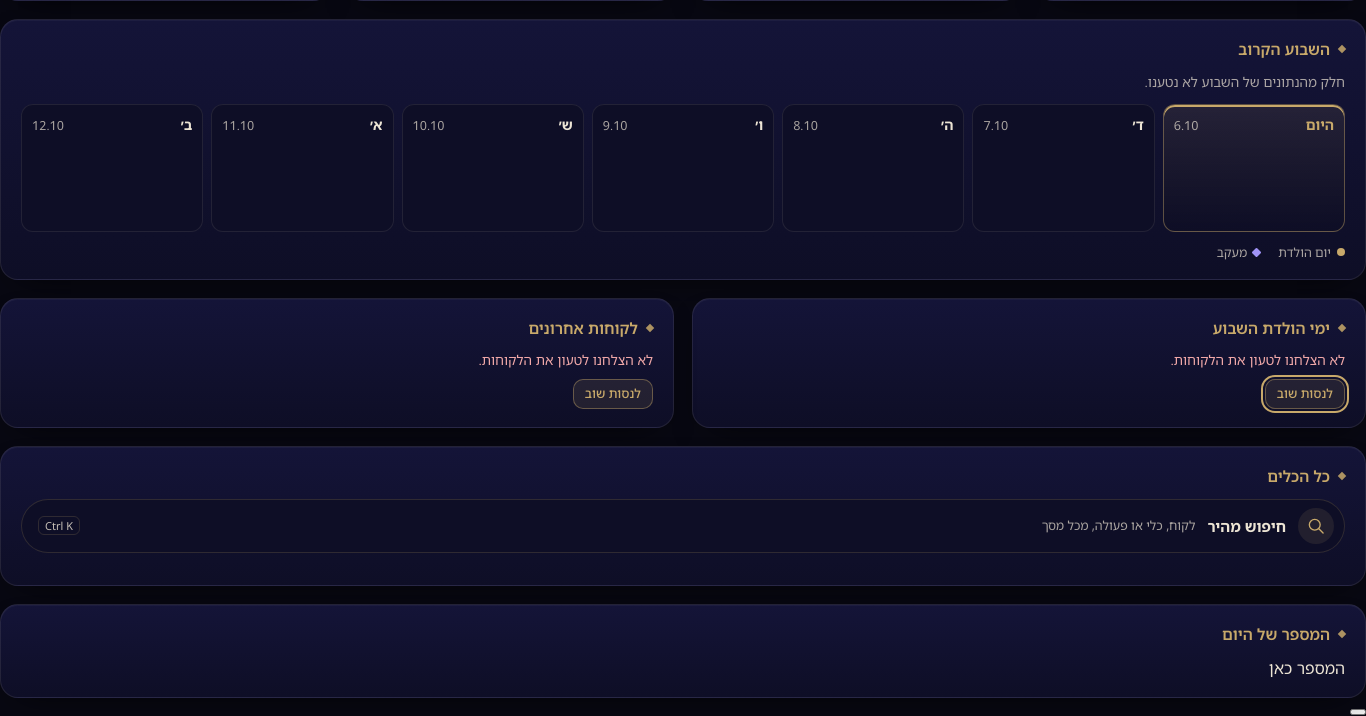
Test case: Today › leaves the focus where it was moved while the retry was loading
(page scrolled)
Click the button "לנסות שוב" below "ימי הולדת השבוע".
click(1305, 394)  # box [1265,378,1345,409]
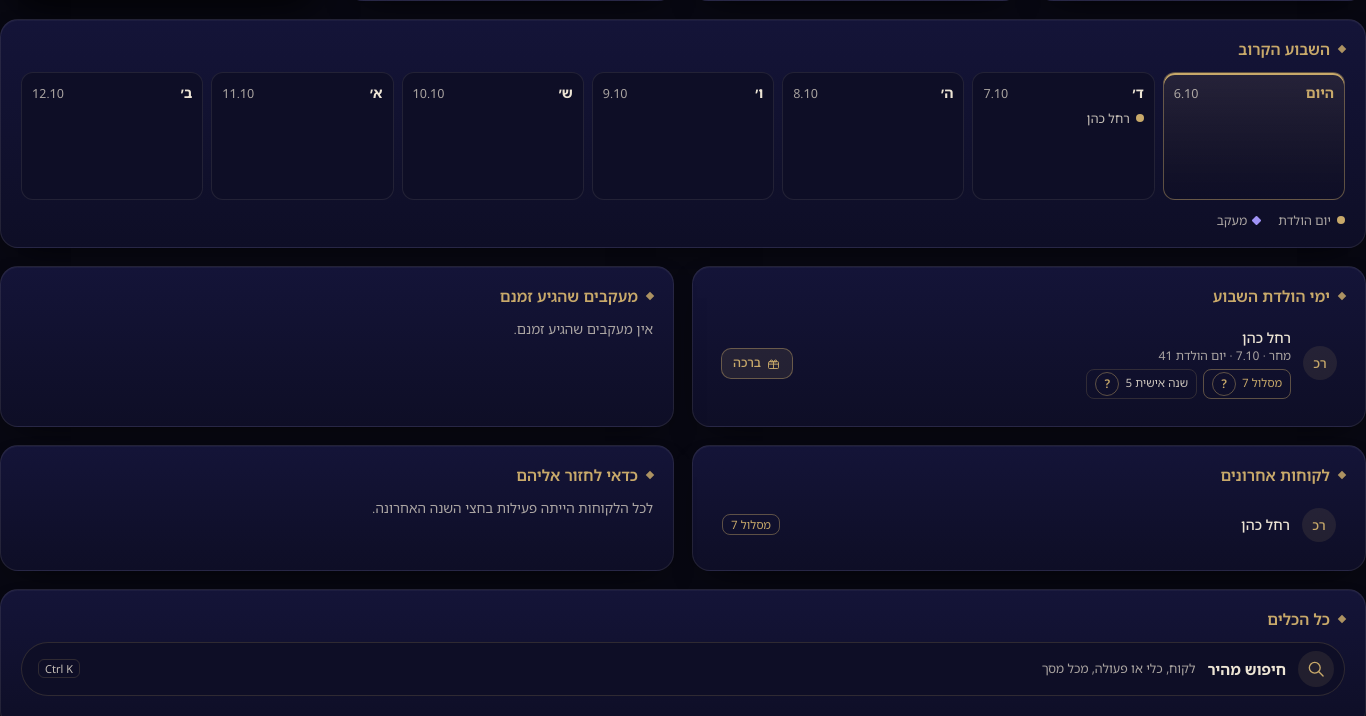
Expected: the button "רכ רחל כהן מסלול 7" is shown, [713,498,1345,552]
